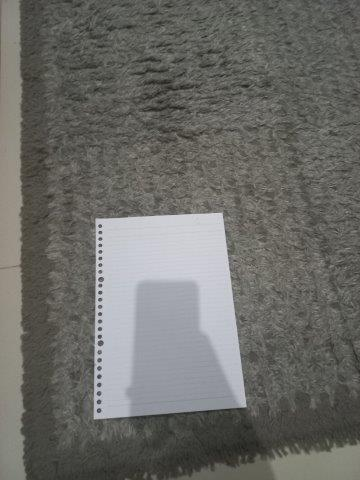kertas: (95, 212, 248, 417)
